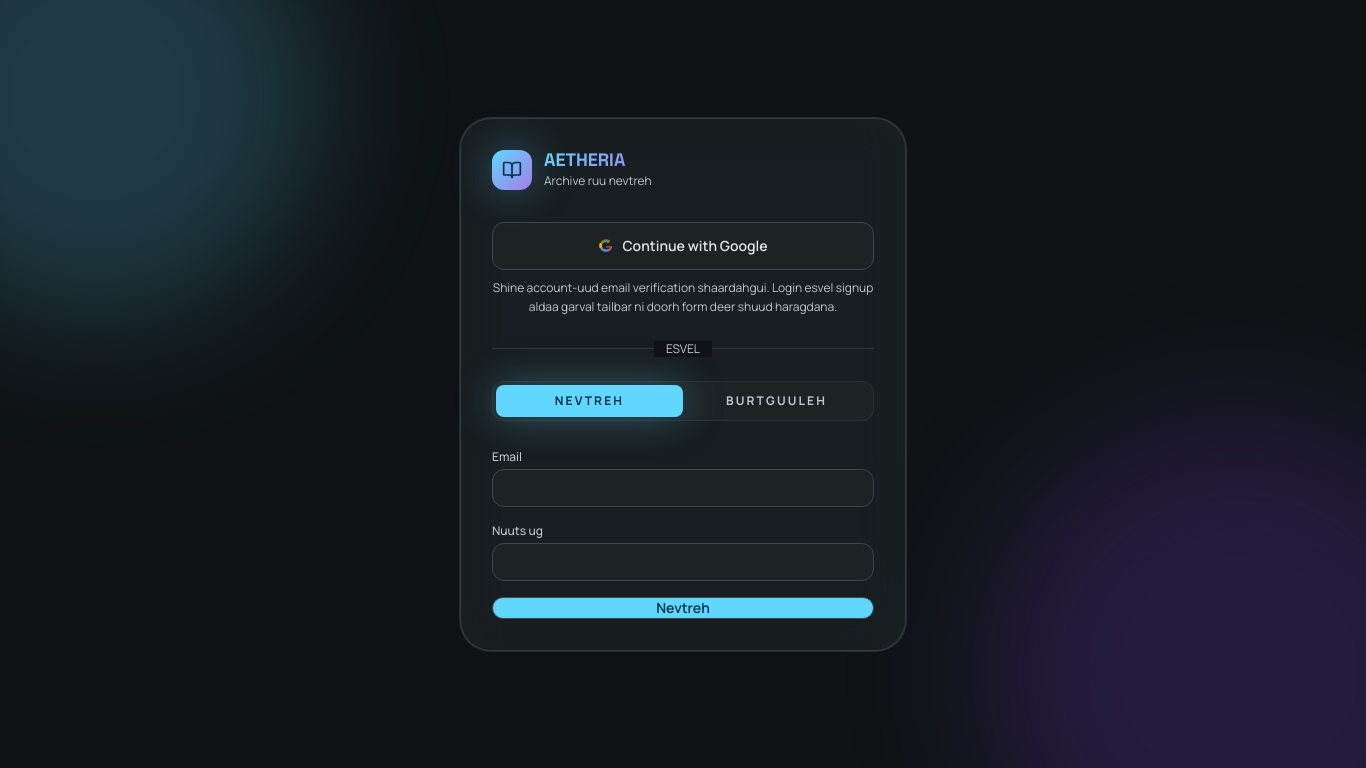
Auth › does not redirect after signup when manual sign-in is required
Click the button "Burtguuleh": coordinates (776, 400) x1=683 y1=384 x2=870 y2=416
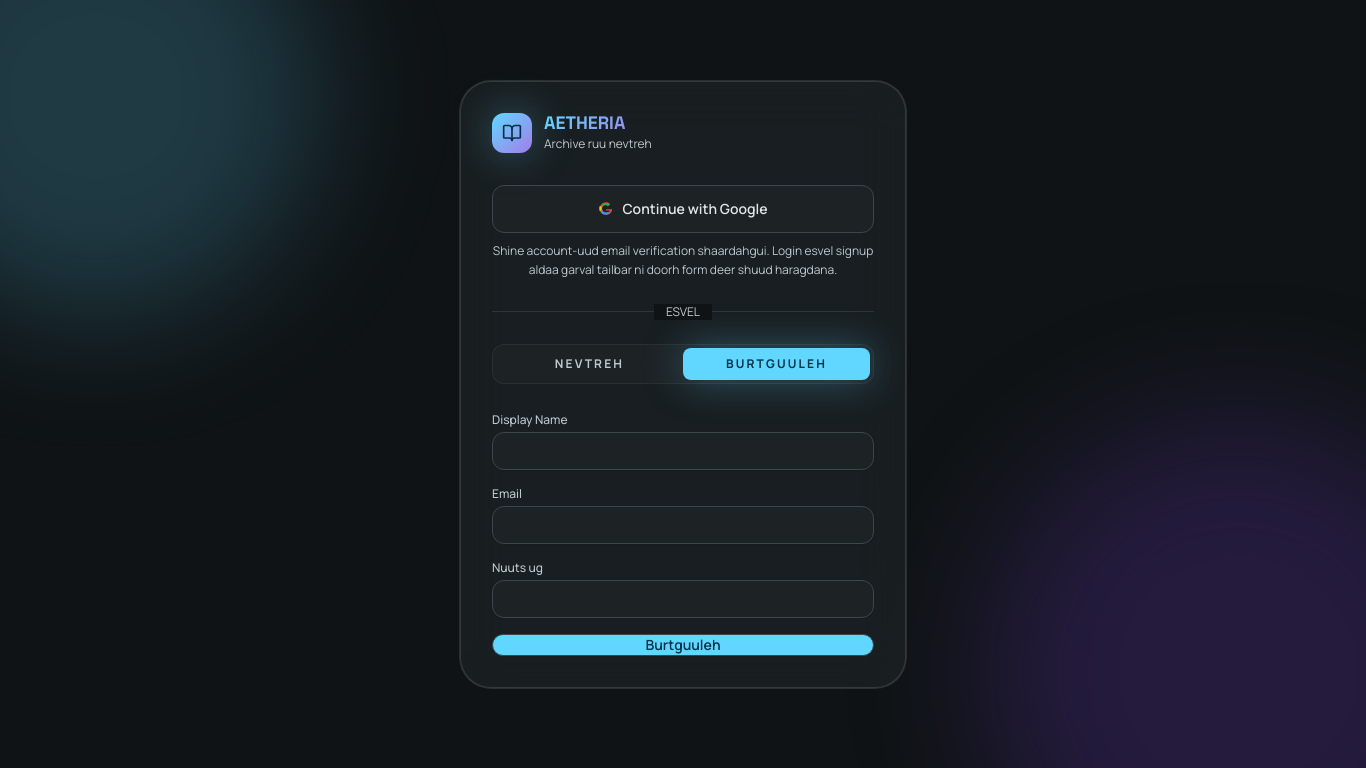
In the field labelled "Display Name": coordinates (683, 450) x1=492 y1=432 x2=874 y2=470, type "Tester"
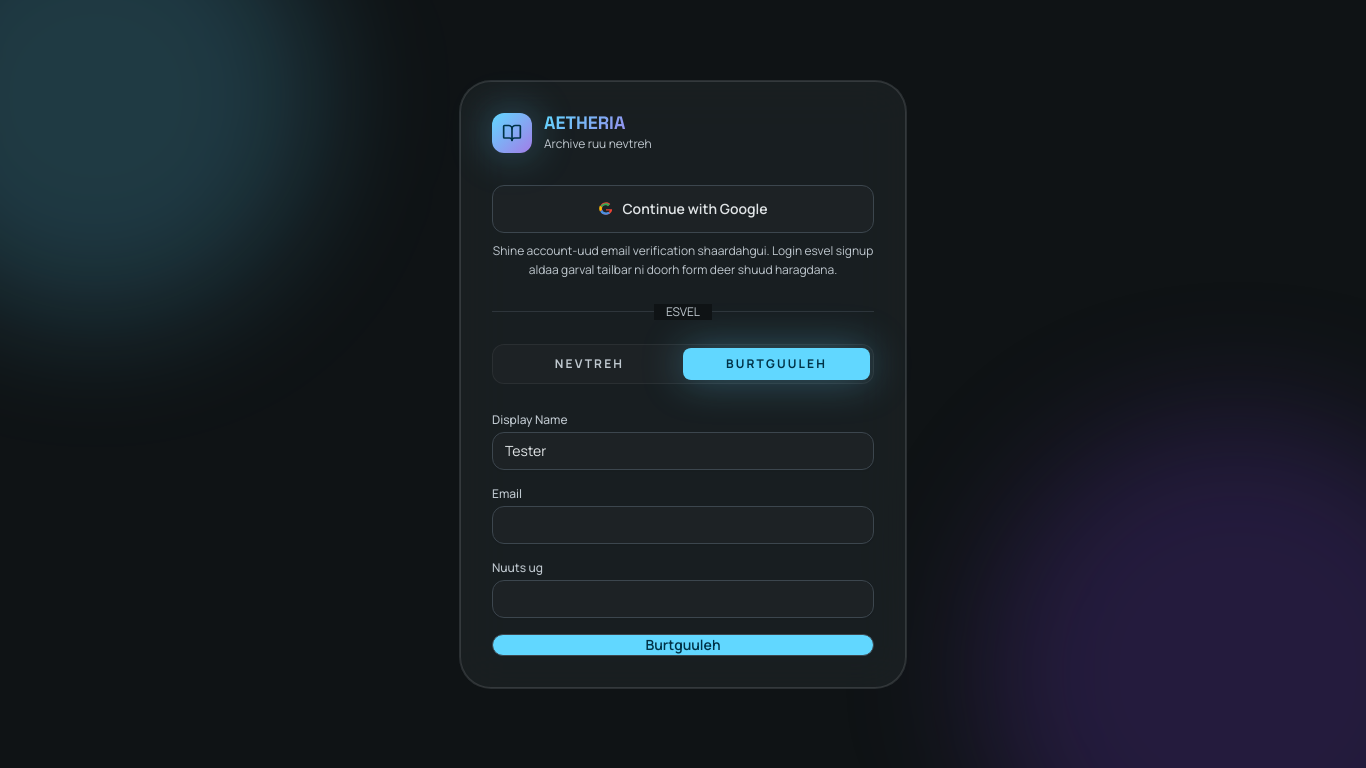
In the field labelled "Email": coordinates (683, 524) x1=492 y1=506 x2=874 y2=544, type "new@example.com"
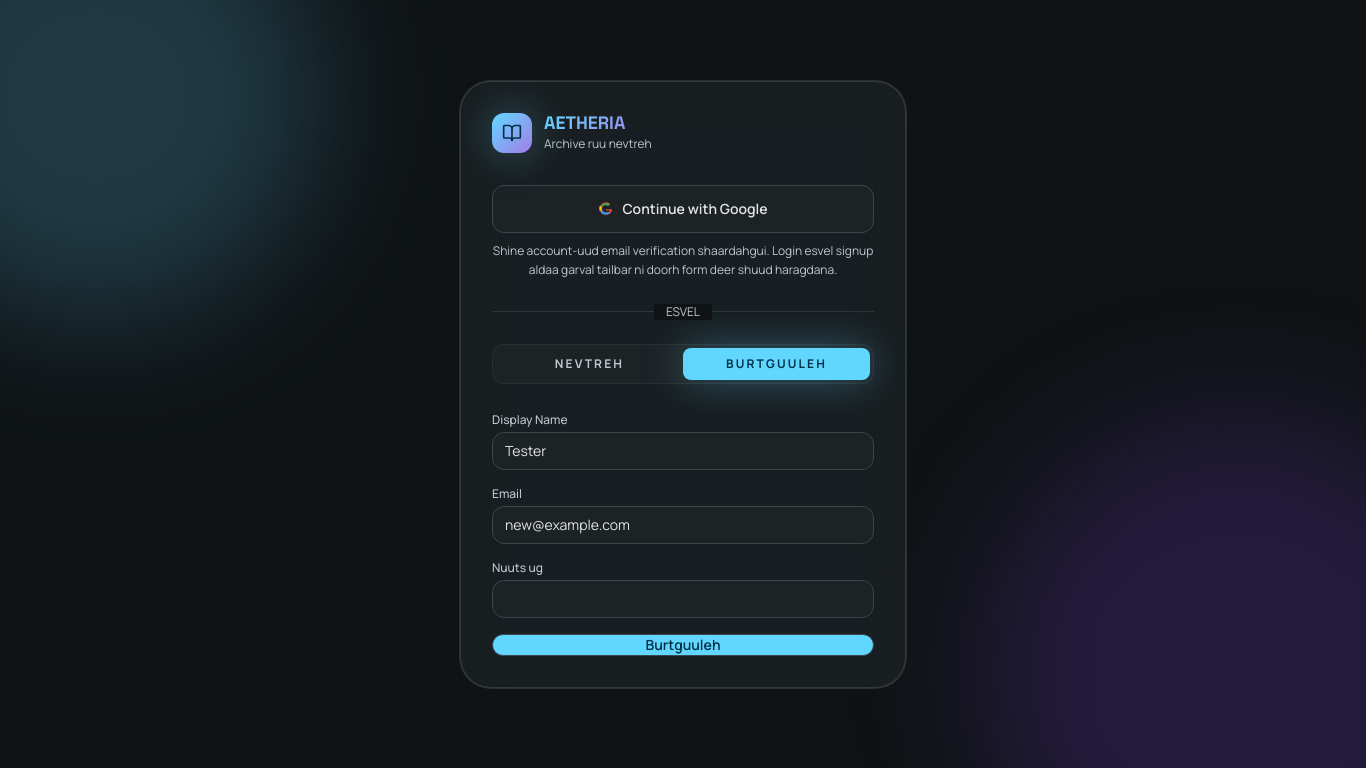
In the password field labelled "Nuuts ug": coordinates (683, 598) x1=492 y1=580 x2=874 y2=618, type "password123"
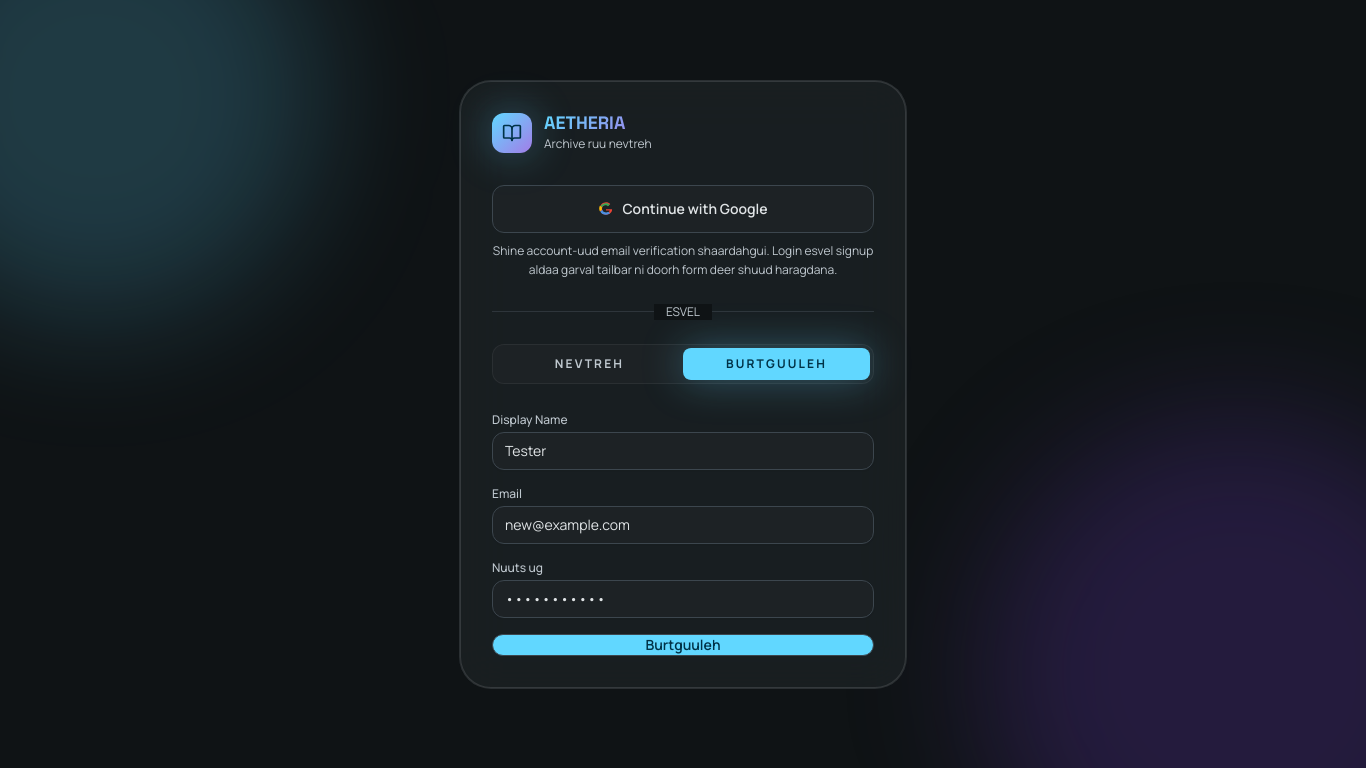
Click the button "Burtguuleh" below "Nuuts ug": coordinates (683, 644) x1=492 y1=634 x2=874 y2=656
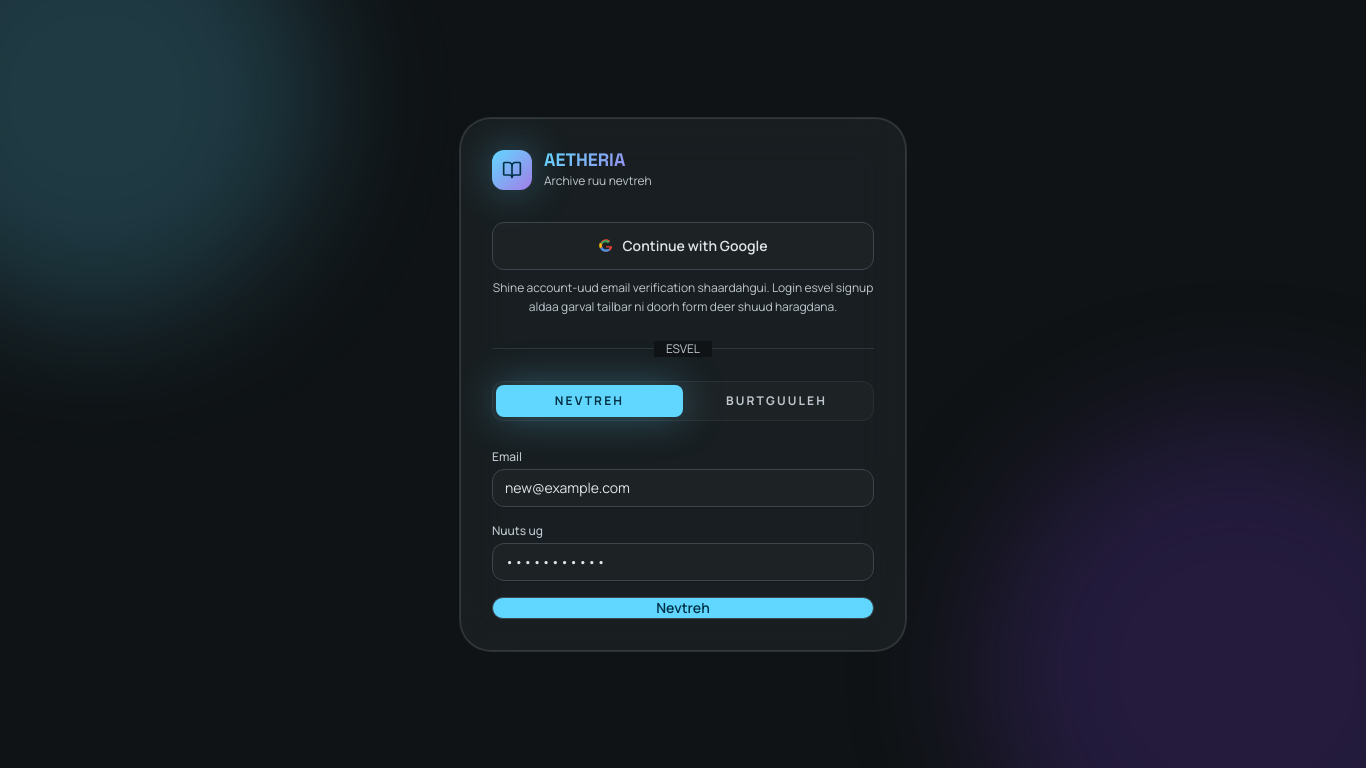
expect the label labelled "Display Name" is gone: met
